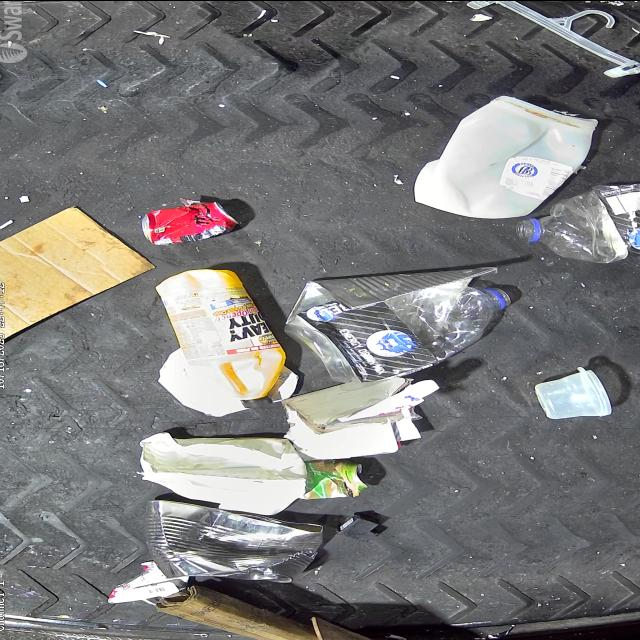can: (146, 497, 322, 583), (142, 200, 240, 246), (304, 456, 368, 498)
milk_jug: (416, 94, 598, 218)
non_white_jug: (155, 268, 287, 408)
plastic_bottle: (281, 285, 507, 387), (515, 187, 640, 263)
